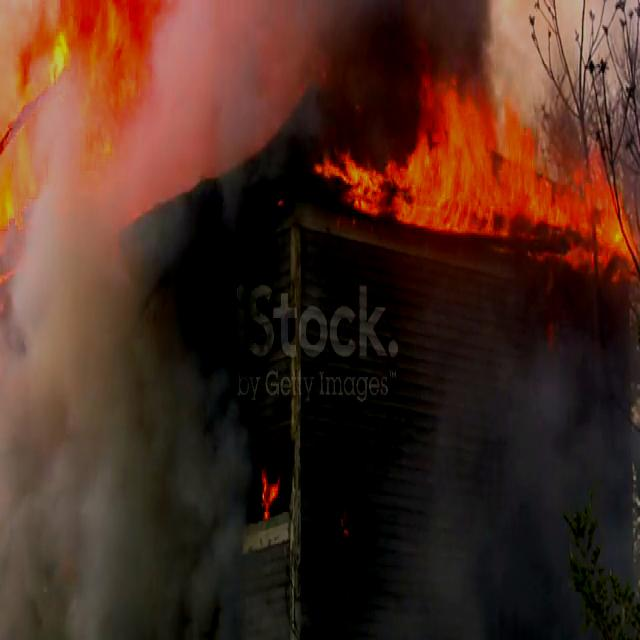fire: (352, 56, 622, 267), (0, 0, 147, 201)
smoke: (150, 0, 334, 531)
